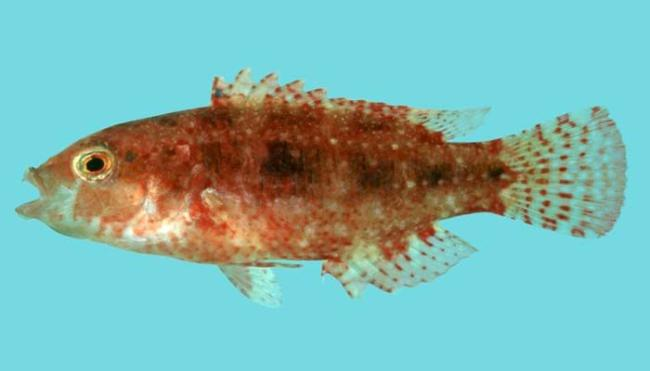fish: (14, 66, 629, 308)
